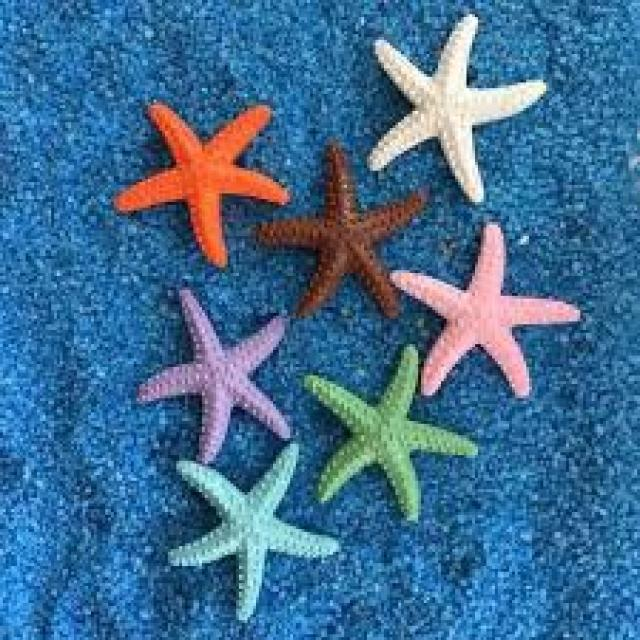starfish: (367, 14, 543, 199), (390, 225, 577, 395), (304, 344, 475, 518), (168, 444, 336, 620), (114, 102, 287, 265), (259, 142, 418, 313), (137, 287, 287, 461)
